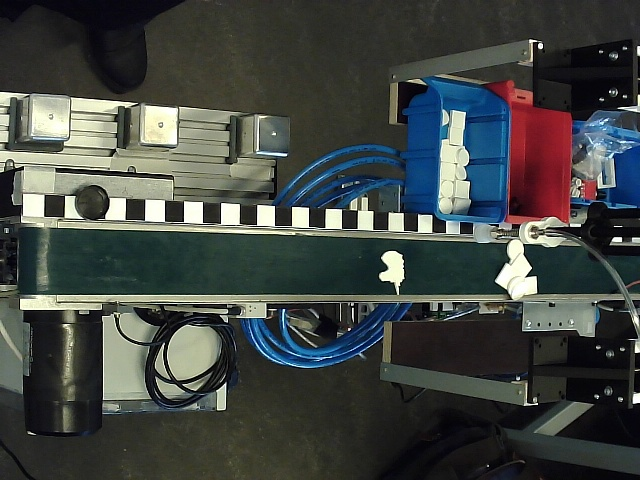unicorn: (378, 249, 406, 297)
